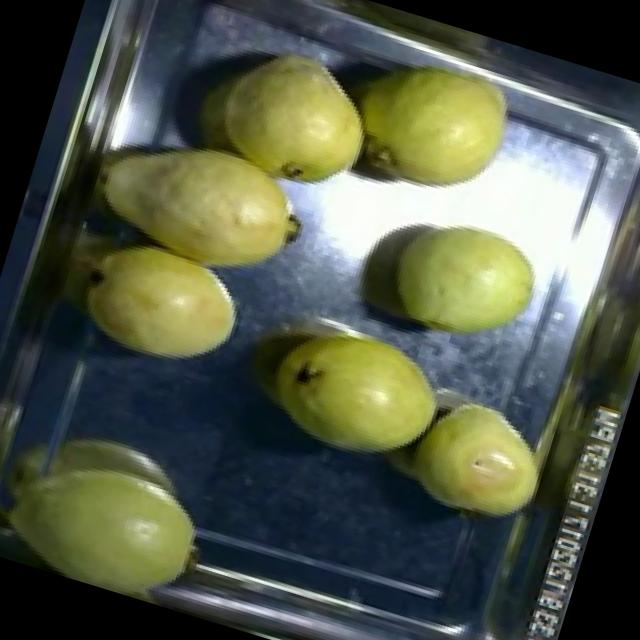Fruit: (76, 100, 330, 300), (0, 401, 231, 614), (314, 15, 544, 224), (246, 296, 465, 486), (177, 18, 396, 206), (357, 186, 560, 368), (64, 228, 255, 387), (390, 374, 566, 540)
